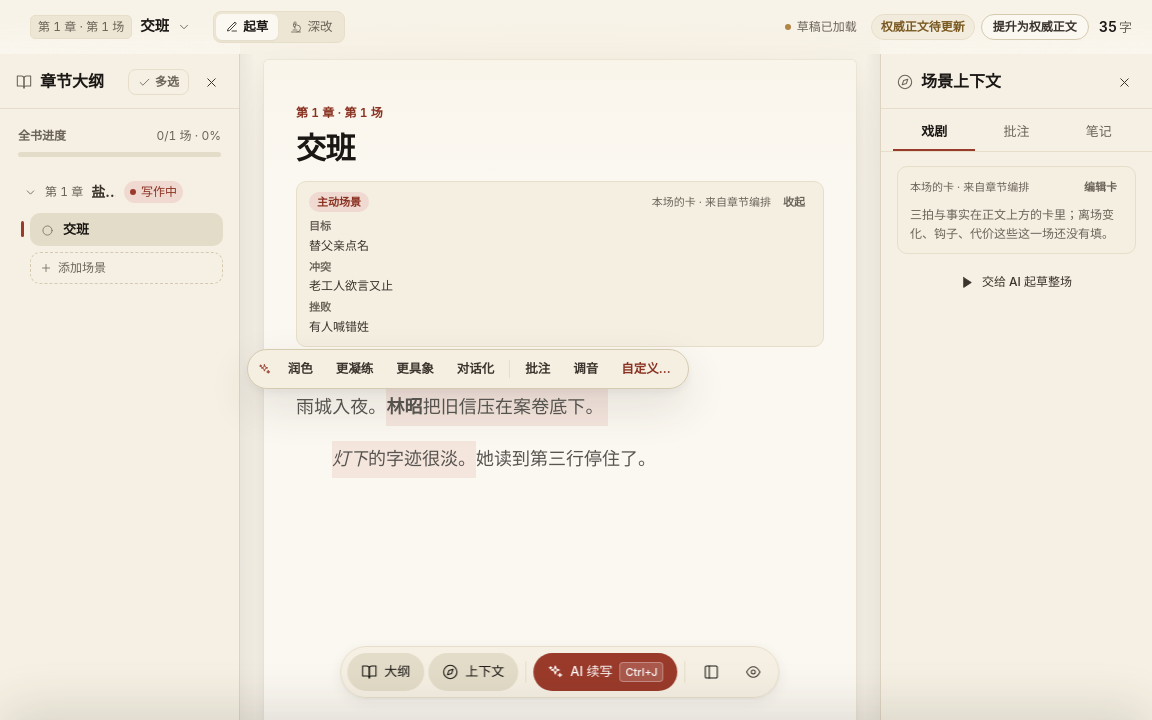
Test: 写作台 · 跨段改写按段换回（#20b） › 「还原原文」把原来的几段原样放回：编辑器的 innerHTML 逐字相同（加粗、斜体都在）
Check: the field with class "wr-editor" shows "林昭", box x1=296 y1=397 x2=656 y2=469
Click the button "润色" at point(300, 369), box x1=277 y1=354 x2=324 y2=384
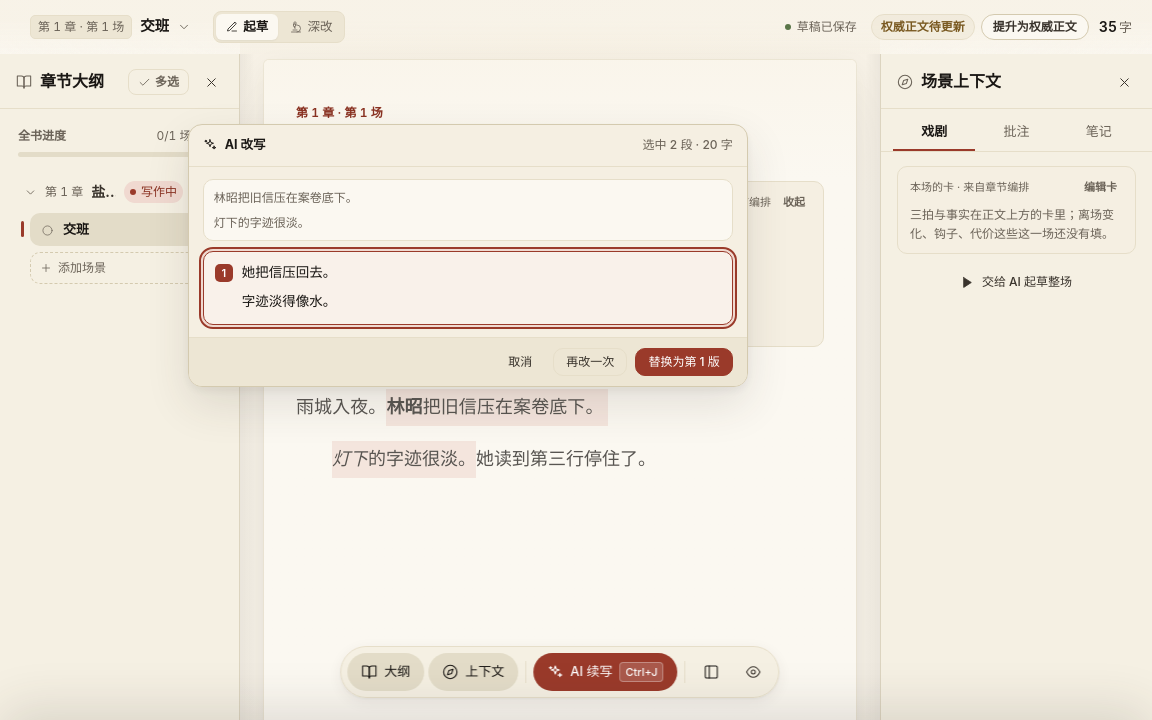
Check: the button "替换为第 1 版" is shown
Click the button "替换为第 1 版" at point(684, 362), box x1=635 y1=348 x2=733 y2=376
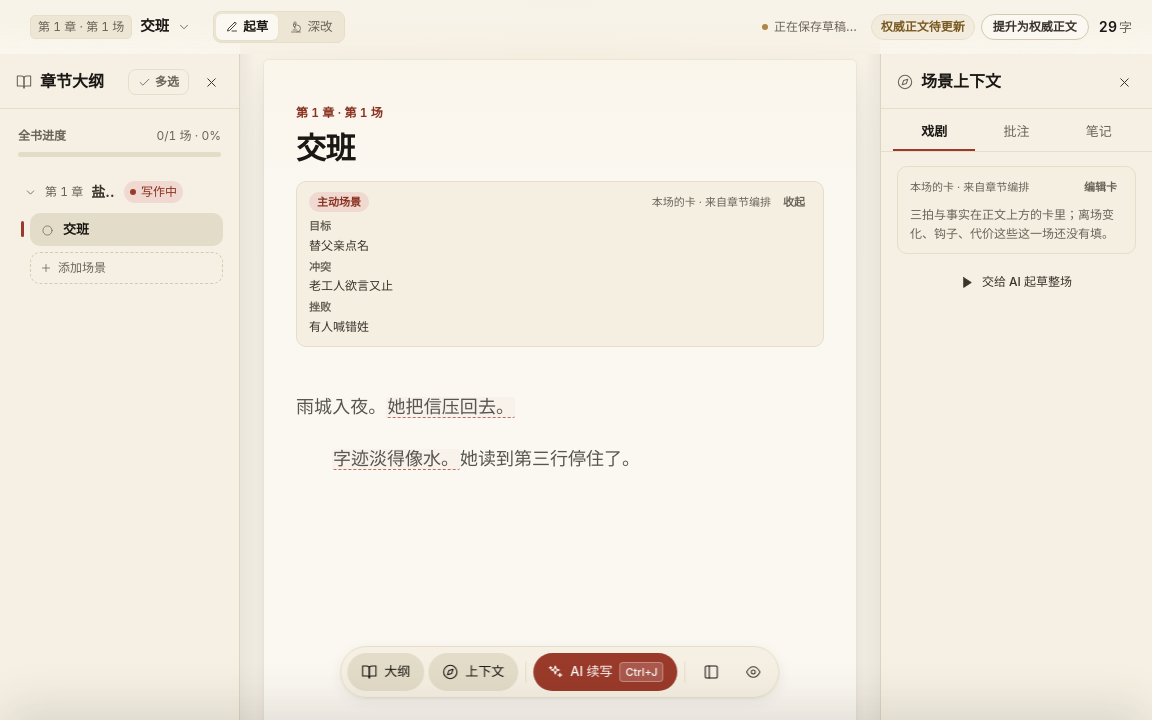
Click the text box with class "wr-rev" showing "她把信压回去。" at point(451, 408), box x1=386 y1=397 x2=515 y2=418
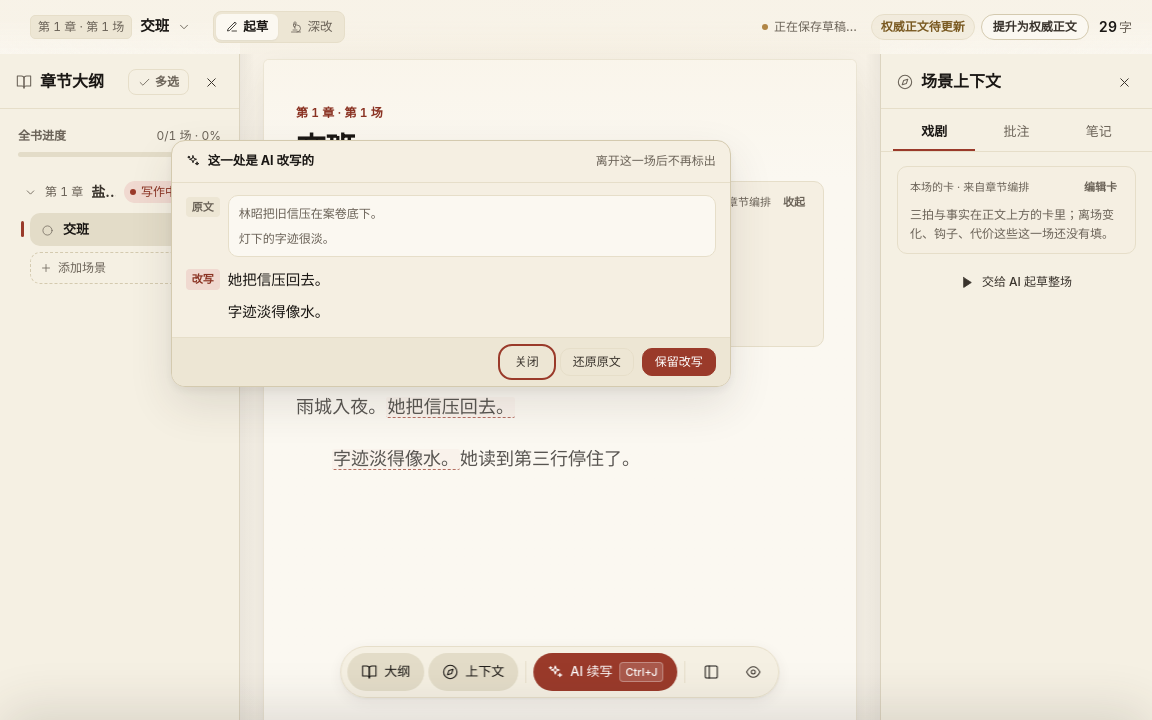
Check: the dialog named "AI 改写的这一处" is shown, box x1=171 y1=140 x2=731 y2=387
Click the button "还原原文" at point(597, 362), box x1=560 y1=348 x2=634 y2=376
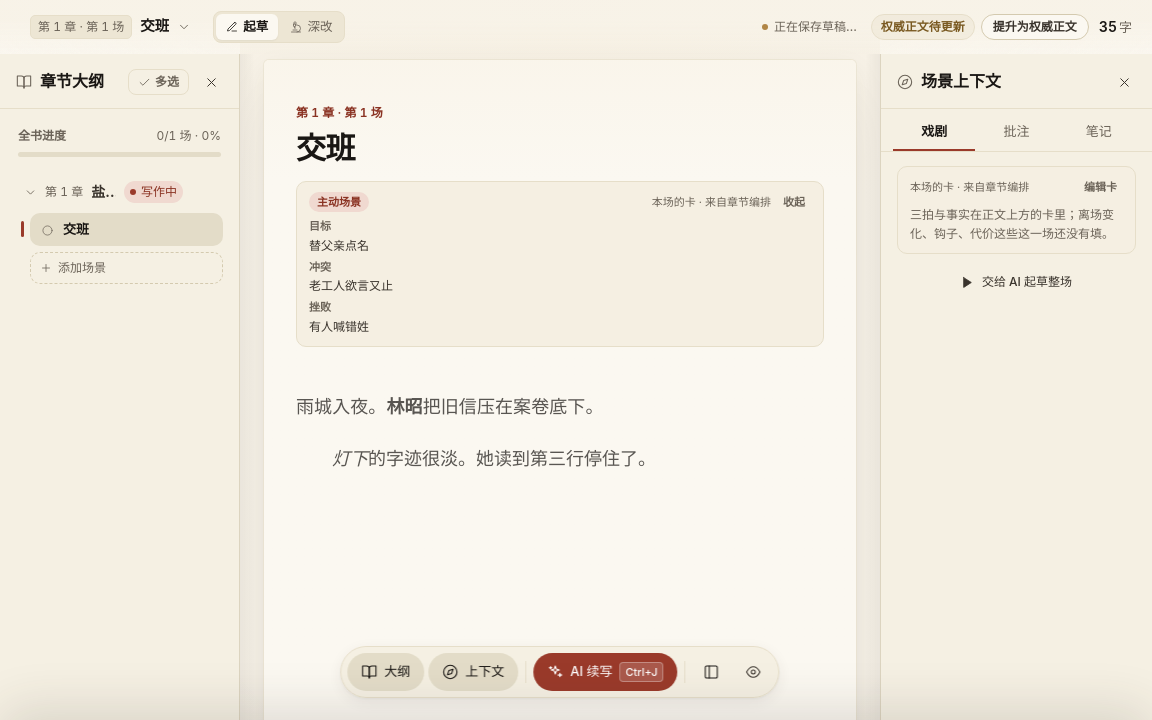
Check: the text box with class "wr-rev" is gone
Check: the dialog with class "wr-irw-pop" is gone
